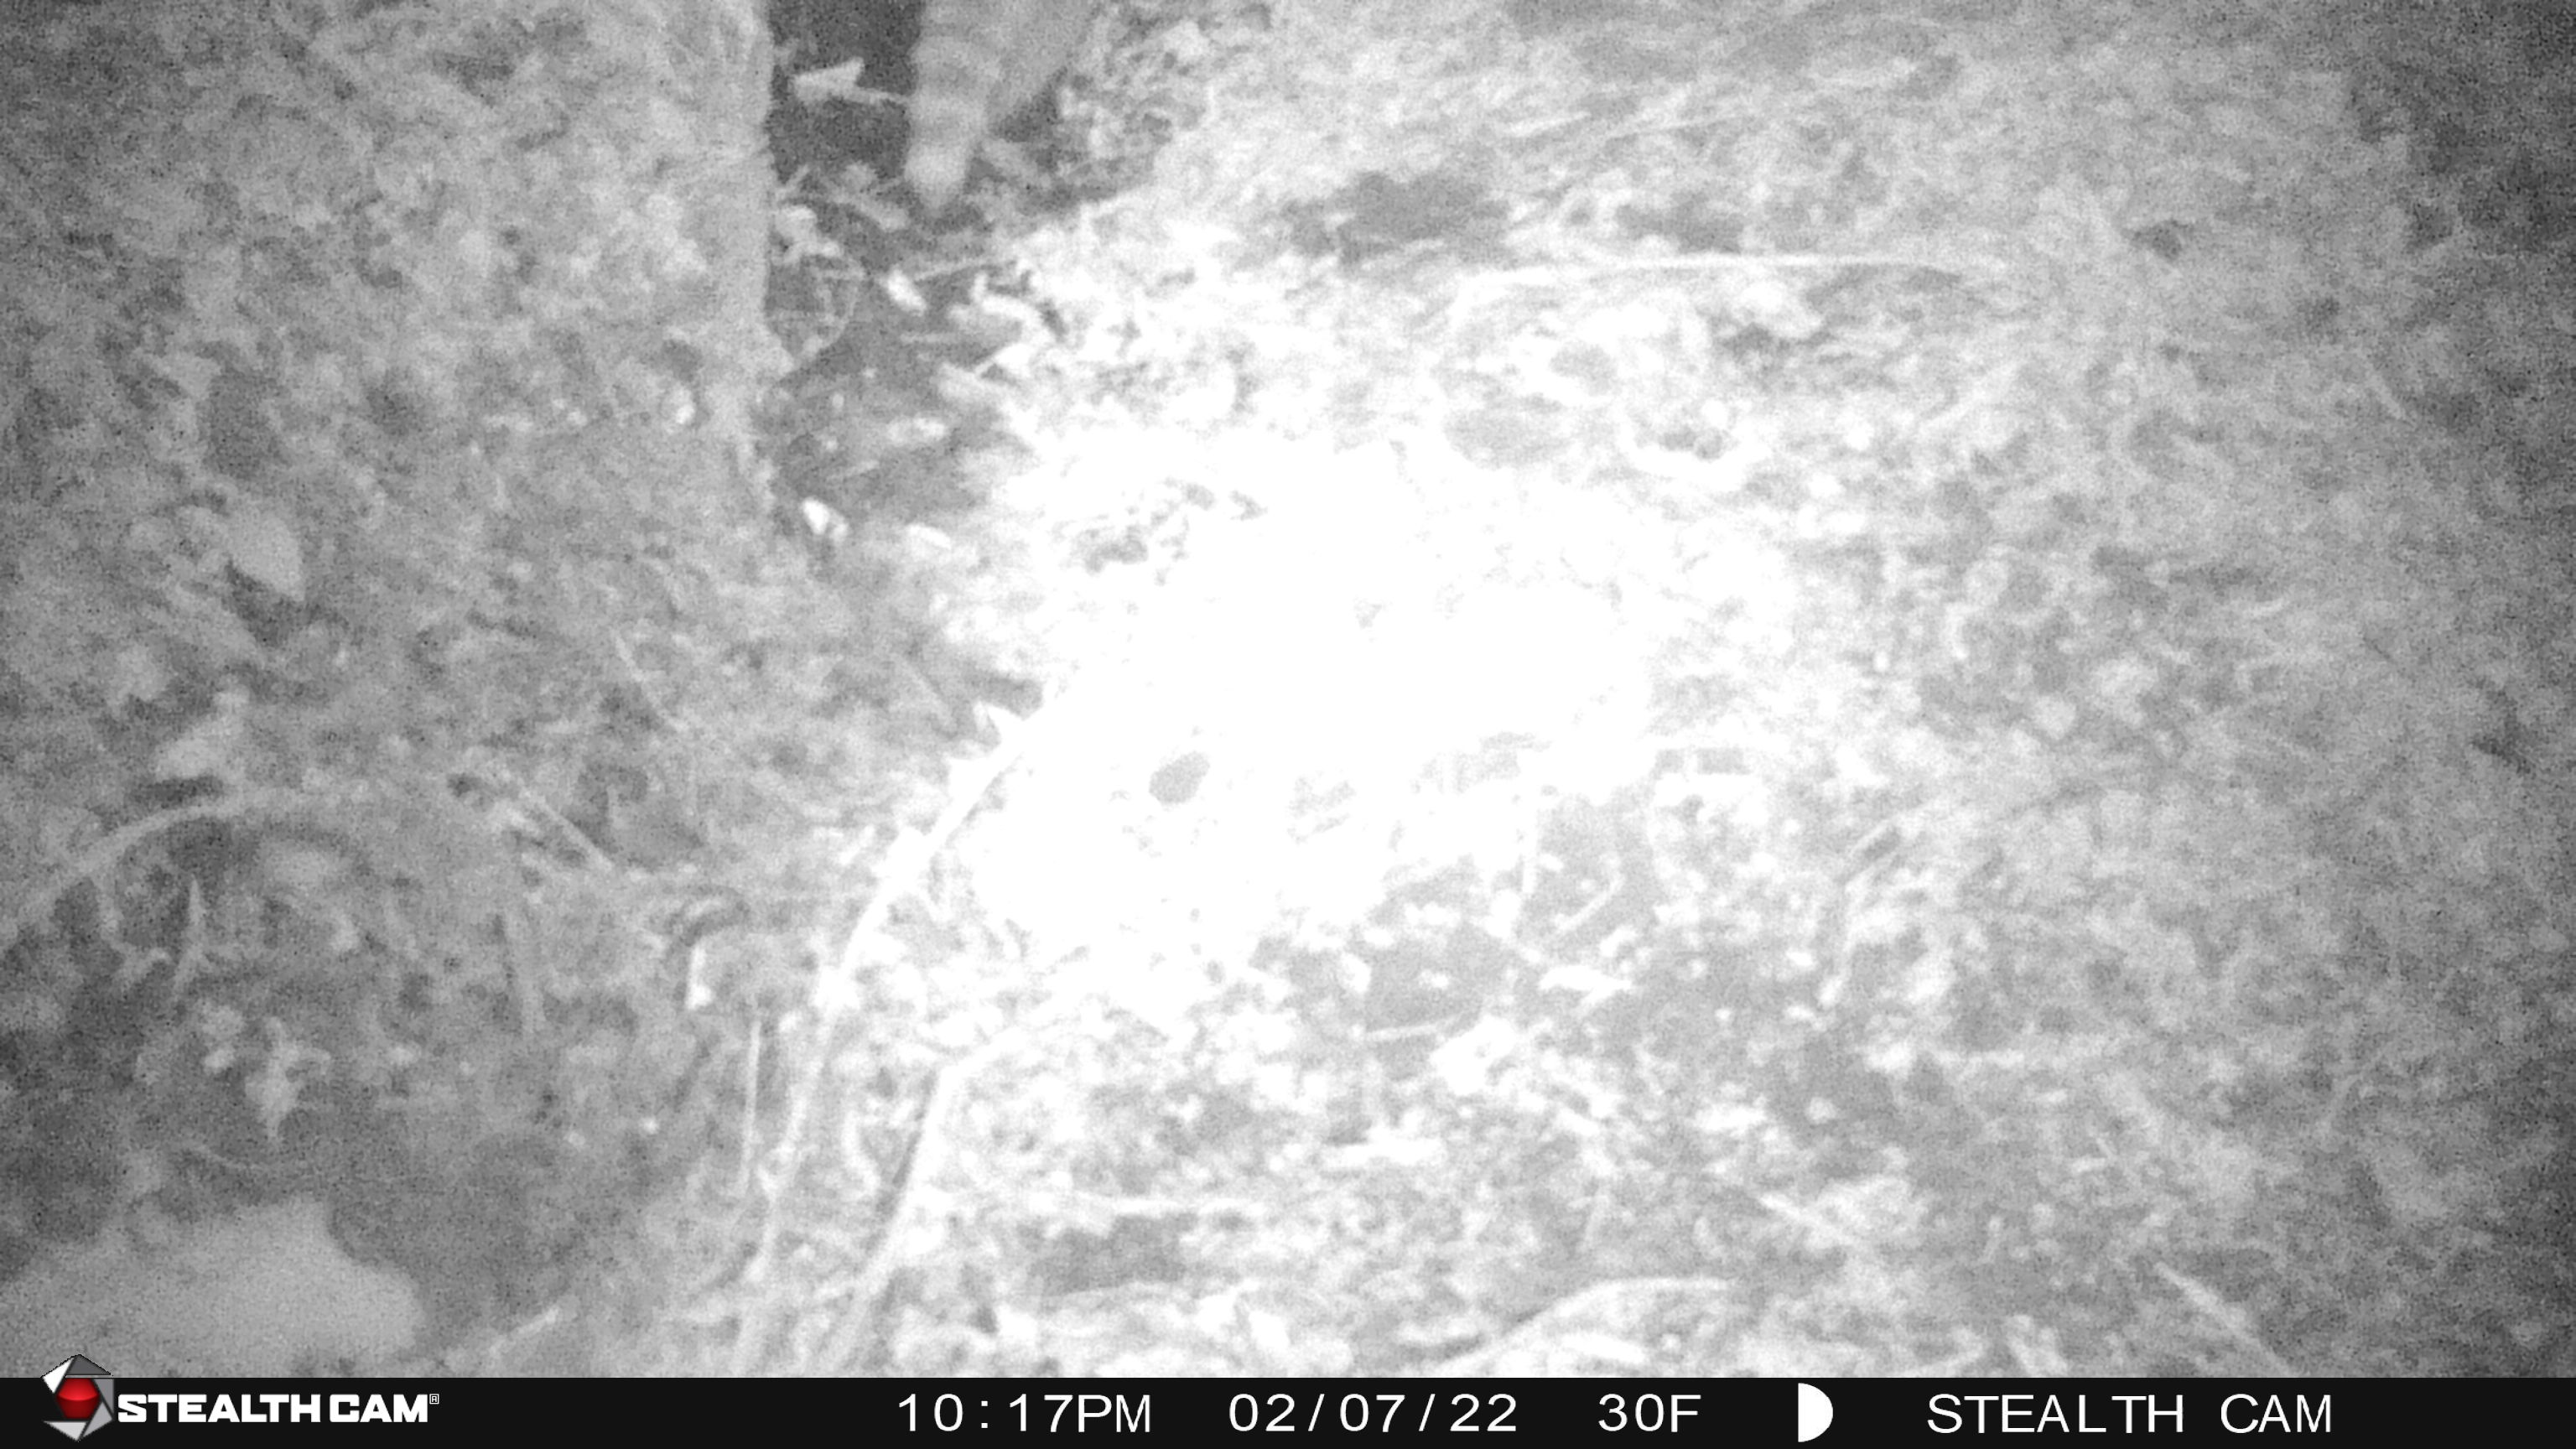Raccoon: (902, 0, 1106, 218)
